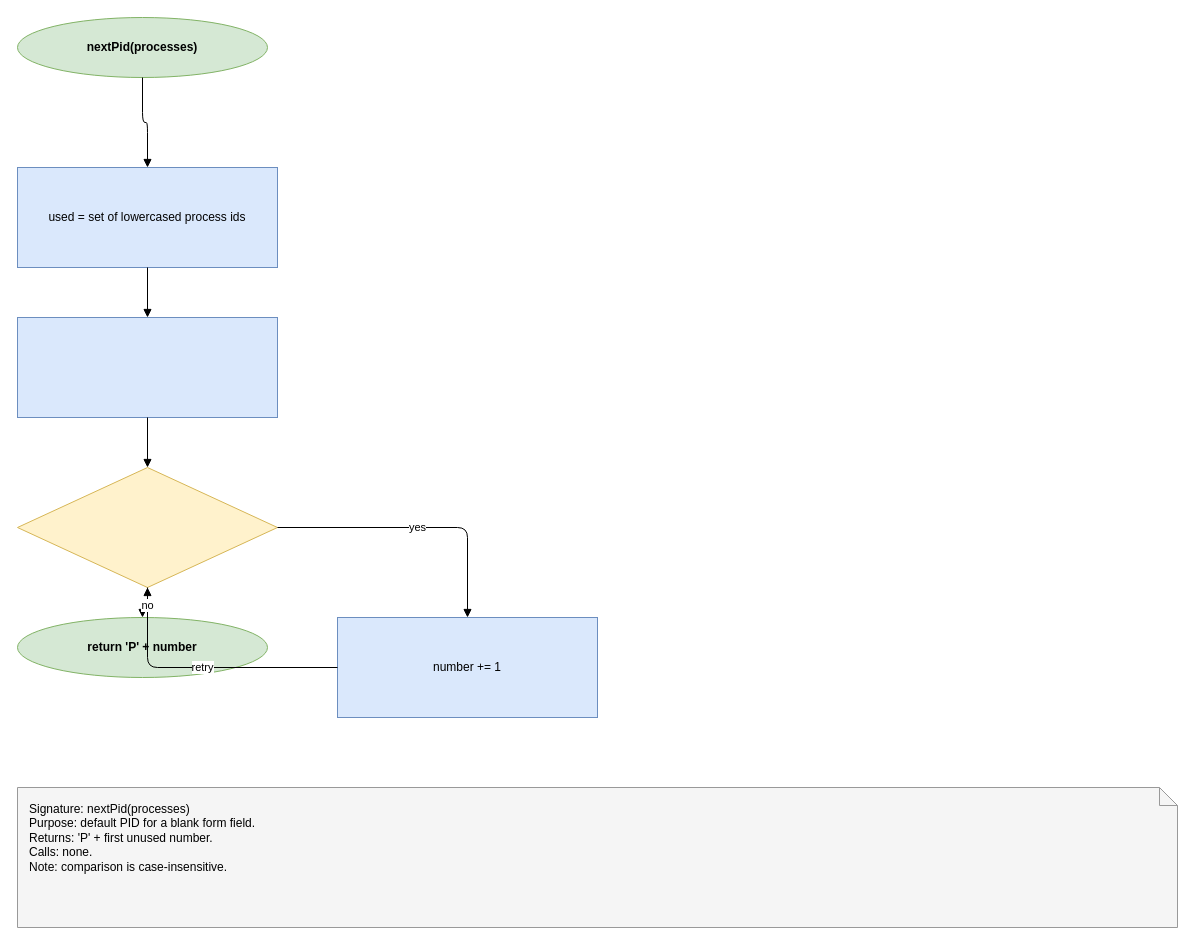
This 1195x945 diagram has some shape labels left out. Here are the shapes that lost their labels. From the top down, the box of each, then its label:
(16, 316, 278, 418): number = 1
(16, 466, 278, 588): used has 'p' + number?
